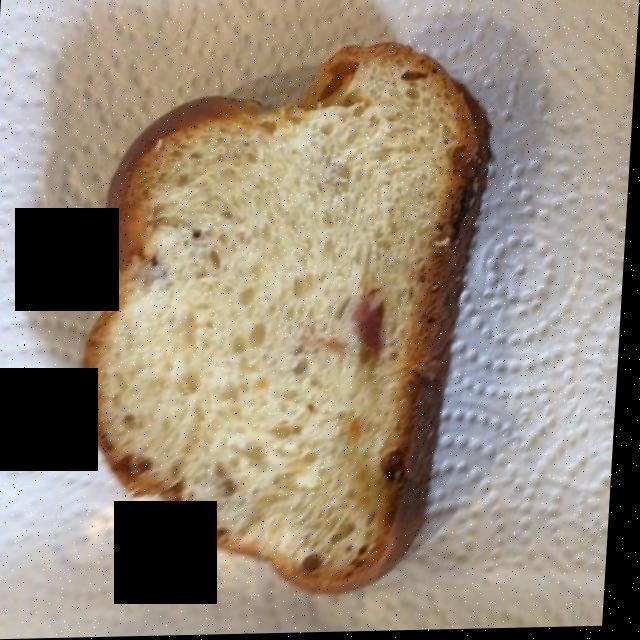bread: (84, 53, 484, 590)
